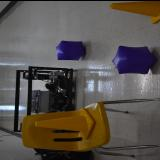cone: (34, 106, 95, 138), (109, 0, 160, 23)
cube: (111, 44, 158, 74), (55, 40, 85, 60)
